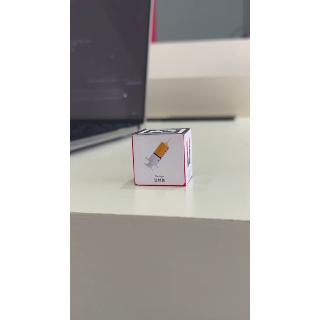Syringe: (134, 136, 189, 188)
